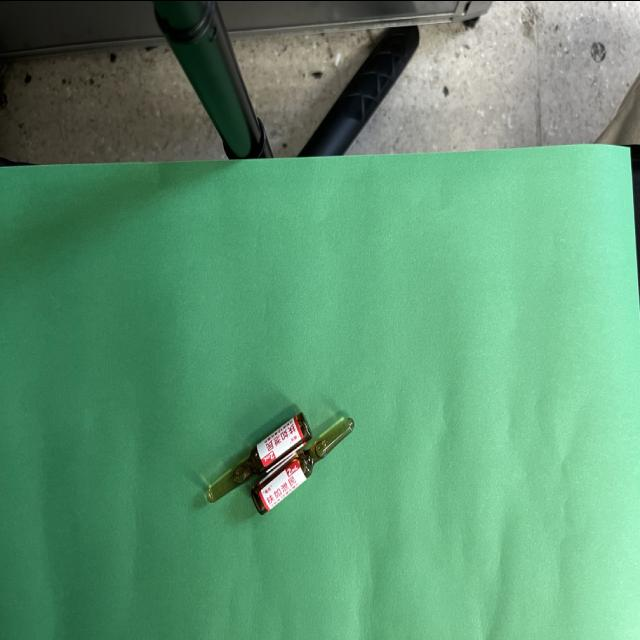Ampoules: (252, 417, 354, 513), (206, 412, 312, 501)
